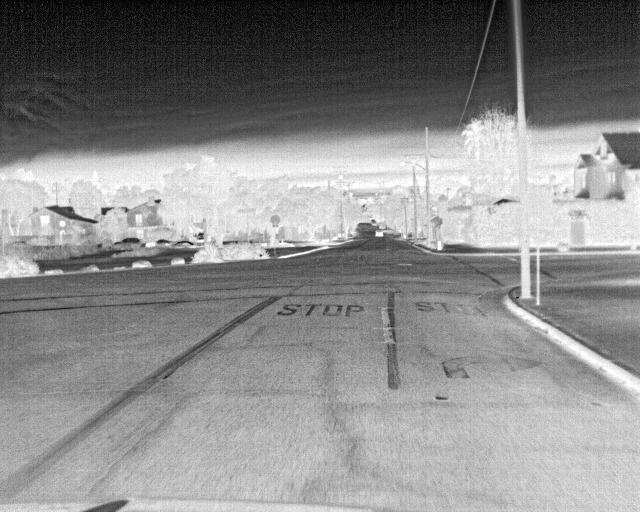car: (111, 236, 141, 251), (373, 227, 385, 240)
